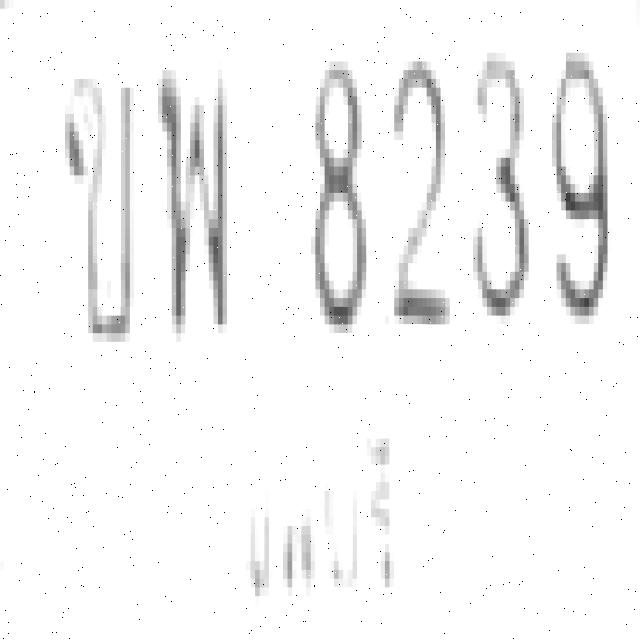11KhorKhai: (56, 62, 134, 334)
2: (385, 48, 445, 320)
3: (466, 44, 526, 316)
39PhorPan: (153, 57, 227, 329)
8: (304, 48, 364, 320)
9: (548, 39, 608, 320)
Chonburi: (217, 430, 415, 622)
